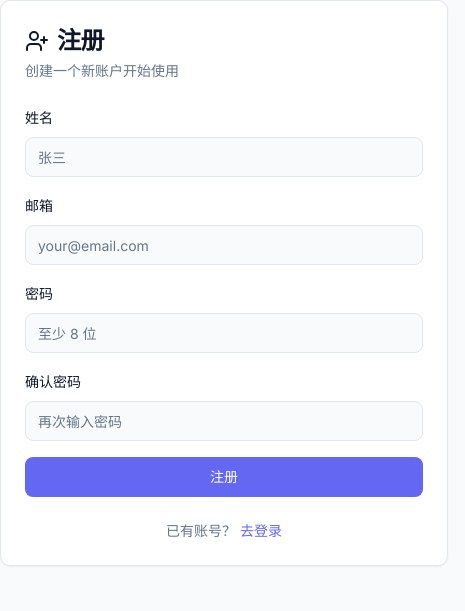
RegisterForm › 表单验证 › 应该验证两次密码是否一致
The image size is (465, 611).
Type "Test User" into the field labelled "姓名" at [224, 157], box [25, 137, 423, 177]
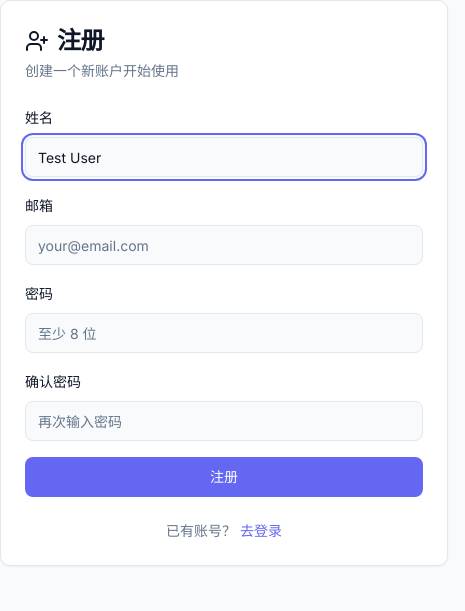
Type "test@example.com" into the field labelled "邮箱" at [224, 245], box [25, 225, 423, 265]
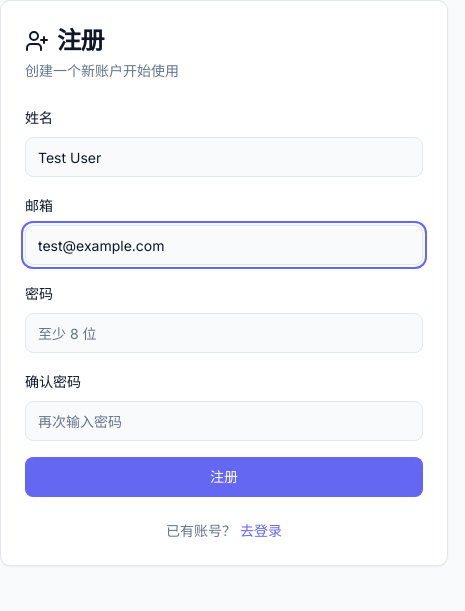
Type "password123" into the password field labelled "密码" at [224, 333], box [25, 313, 423, 353]
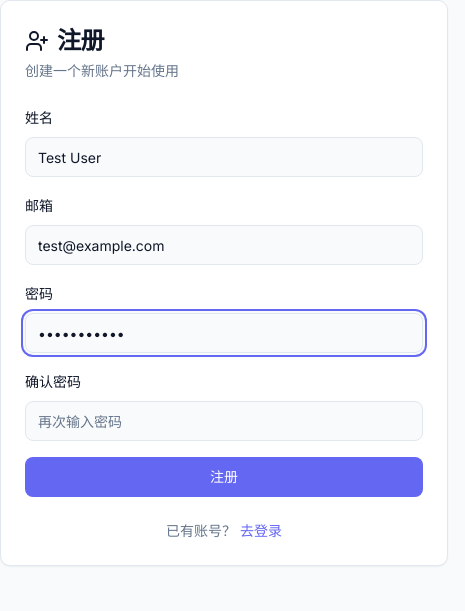
Type "password456" into the password field labelled "确认密码" at [224, 421], box [25, 401, 423, 441]
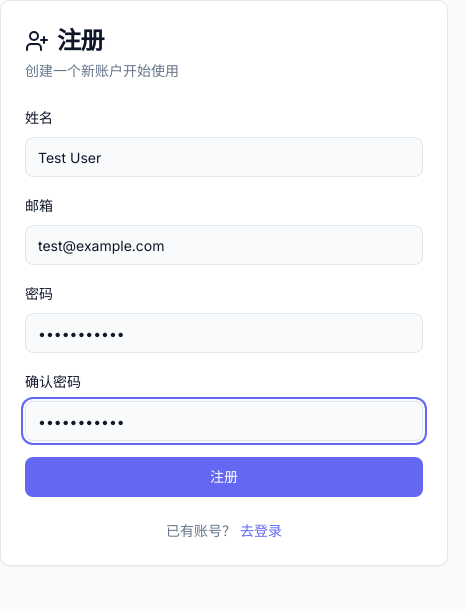
Click the button "注册" at [224, 477], box [25, 457, 423, 497]
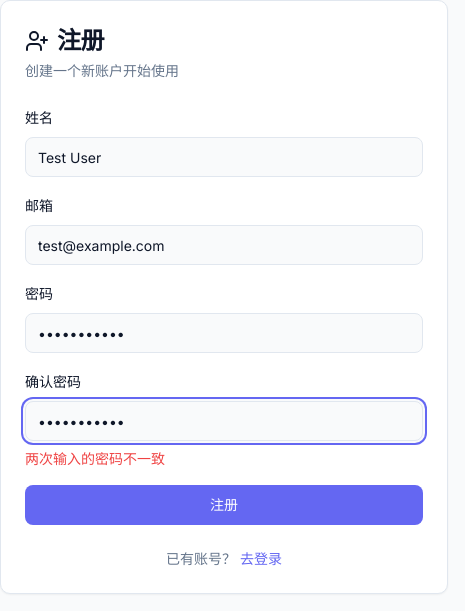
Check: the text "两次输入的密码不一致" is shown, box [25, 450, 165, 467]
